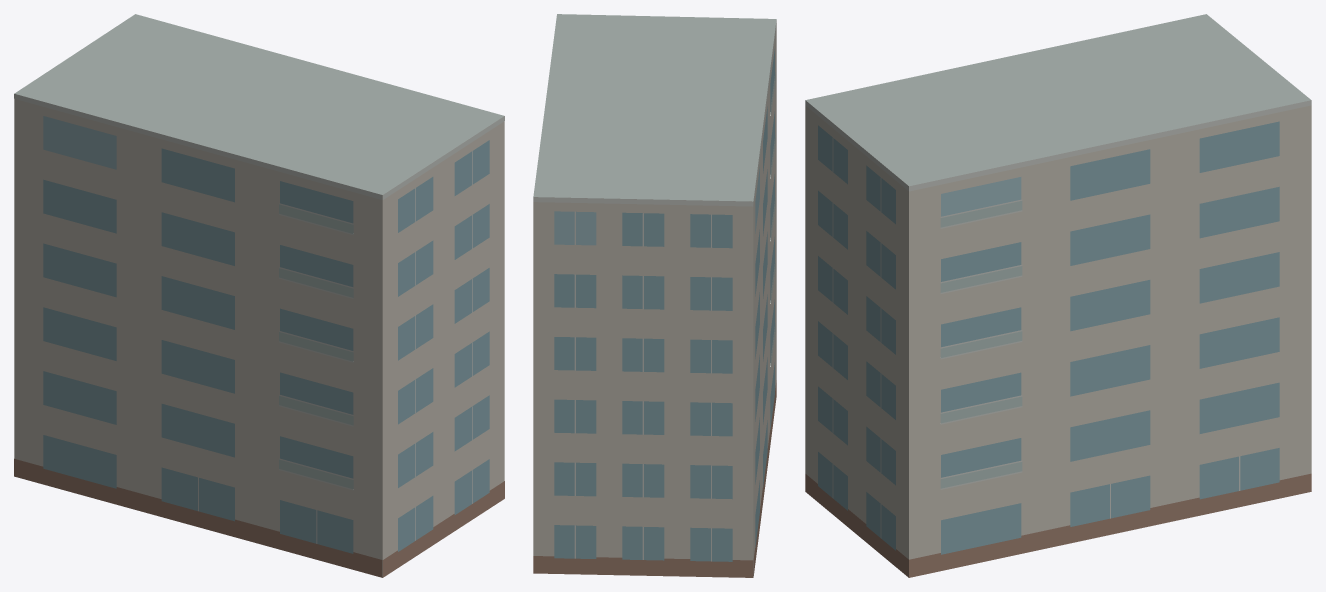
File: survey-upis-32838233.glb
3 renders of one model, left to right at view 1: azimuth 30°, elevation 25°; view 2: azimuth 150°, elevation 25°; view 3: azimuth 270°, elevation 25°, orthographic. The views are drawn at different scales.
Visible parts, largest first — view 1: survey-upis-32838233.tmp; view 2: survey-upis-32838233.tmp; view 3: survey-upis-32838233.tmp.
Part boxes in pixels (<box>): survey-upis-32838233.tmp: <box>14,14,504,577</box>; survey-upis-32838233.tmp: <box>533,14,776,577</box>; survey-upis-32838233.tmp: <box>805,14,1311,577</box>.
Size of the model in its own units: 17.28 by 18.3 by 21.45.
